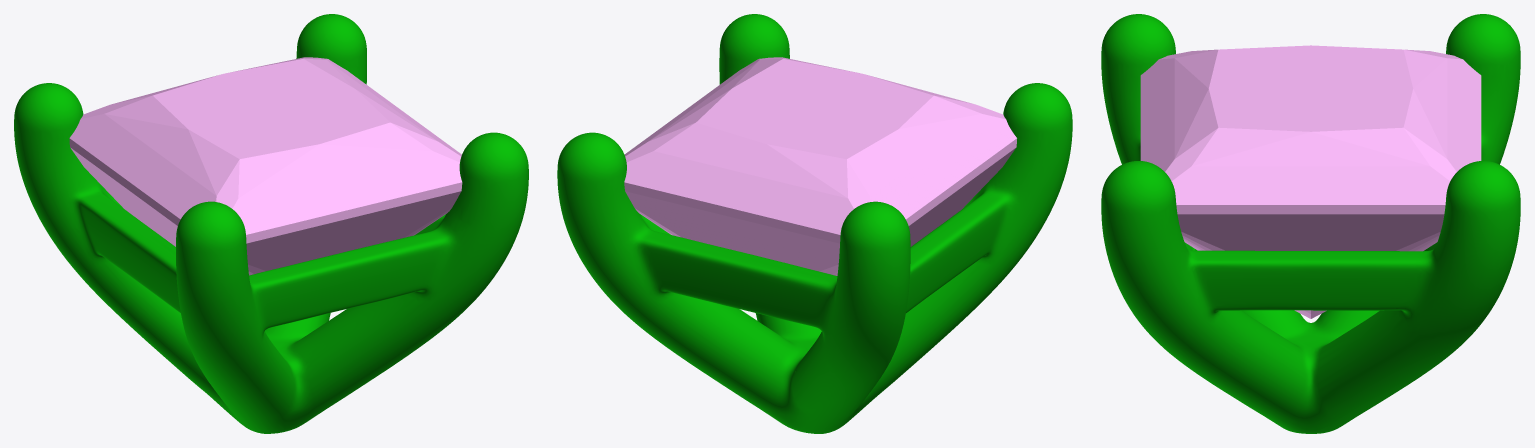
3 views of the same model, side by side, from view 1: azimuth 30°, elevation 25°; view 2: azimuth 150°, elevation 25°; view 3: azimuth 270°, elevation 25° (orthographic). The views are drawn at different scales.
Visible parts, largest first — view 1: Metal01, Diamond_Princess; view 2: Metal01, Diamond_Princess; view 3: Metal01, Diamond_Princess.
Part boxes in pixels (left/top/right/bottom): Metal01: left=14, top=14, right=528, bottom=433; Diamond_Princess: left=69, top=57, right=462, bottom=275; Metal01: left=557, top=14, right=1072, bottom=433; Diamond_Princess: left=624, top=57, right=1016, bottom=275; Metal01: left=1101, top=14, right=1520, bottom=433; Diamond_Princess: left=1140, top=45, right=1481, bottom=318.
Size of the model in its own units: 6.19 by 5.42 by 6.15.
